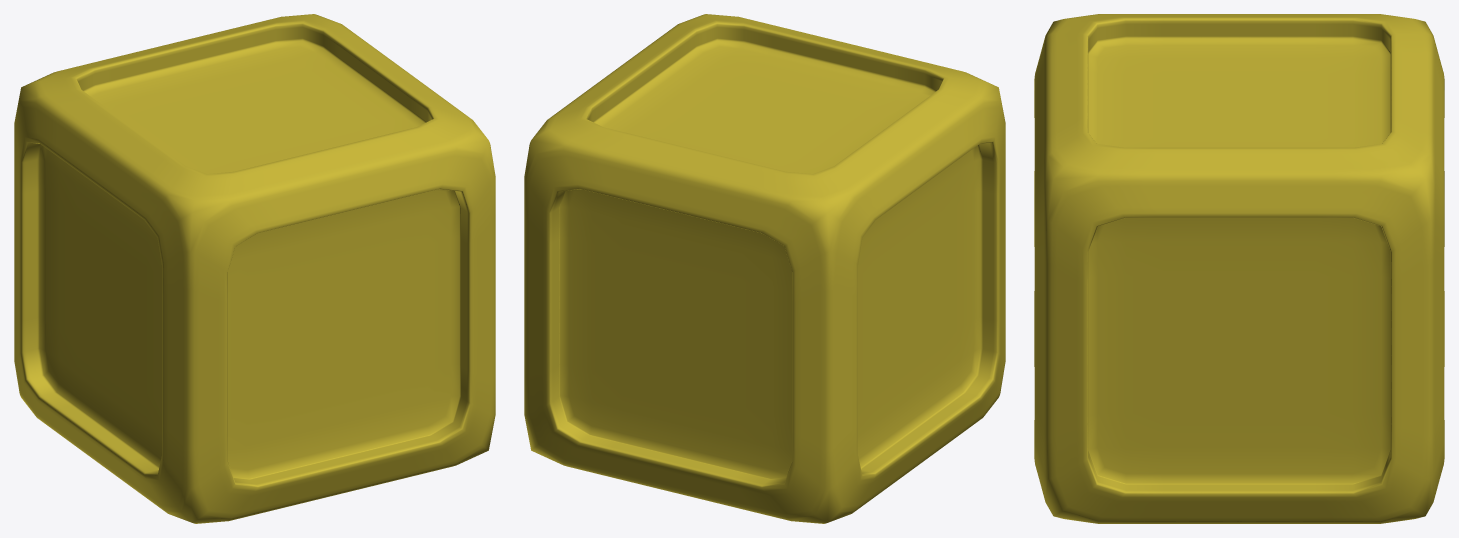
File: Cubito.fbx
3 renders of one model, left to right at view 1: azimuth 30°, elevation 25°; view 2: azimuth 150°, elevation 25°; view 3: azimuth 270°, elevation 25°, orthographic. The views are drawn at different scales.
Parts seen in each view (by area): view 1: cubo_caja; view 2: cubo_caja; view 3: cubo_caja.
Part boxes in pixels (<box>): cubo_caja: <box>14,14,495,523</box>; cubo_caja: <box>524,14,1005,523</box>; cubo_caja: <box>1034,14,1444,523</box>.
Size of the model in its own units: 1.17 by 1.17 by 1.17.
